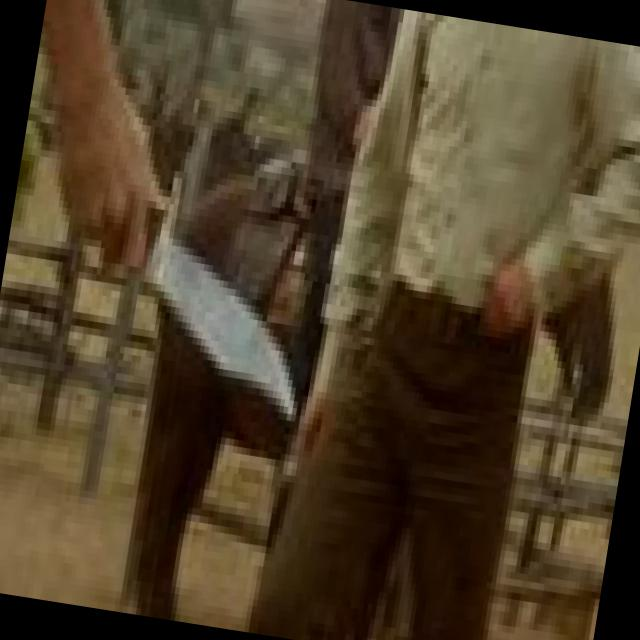knife: (48, 130, 340, 422)
